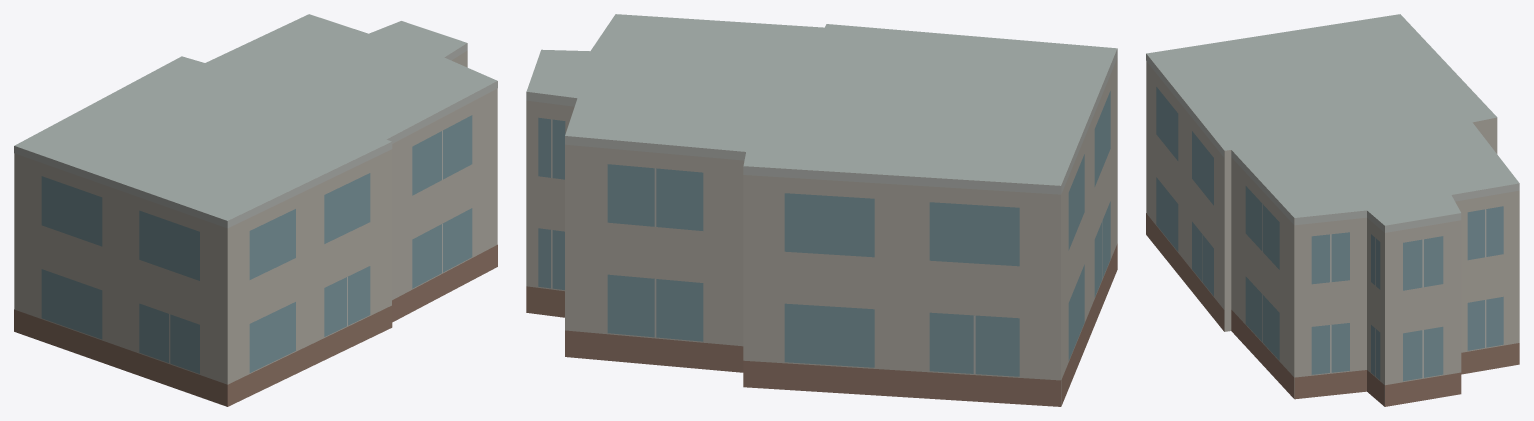
The model's file is survey-upis-33010395.glb.
The picture shows the model from 3 angles, left to right: view 1: azimuth 30°, elevation 25°; view 2: azimuth 150°, elevation 25°; view 3: azimuth 270°, elevation 25°; orthographic projection. The views are drawn at different scales.
Parts seen in each view (by area): view 1: survey-upis-33010395.tmp; view 2: survey-upis-33010395.tmp; view 3: survey-upis-33010395.tmp.
Boxes of the visible parts, left/top/right/bottom form: survey-upis-33010395.tmp: left=14, top=14, right=497, bottom=406; survey-upis-33010395.tmp: left=526, top=14, right=1117, bottom=406; survey-upis-33010395.tmp: left=1146, top=14, right=1519, bottom=406.
Bounding box in the file's own units: 15.3 × 6.1 × 11.41.
